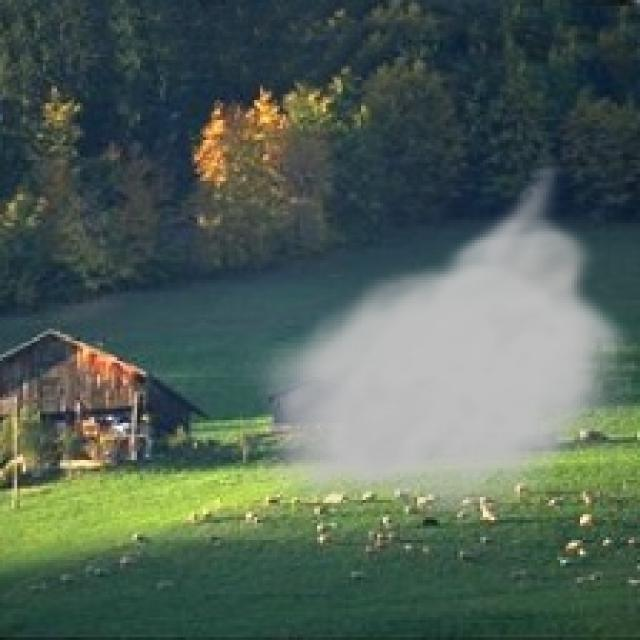smoke: (237, 151, 637, 526)
